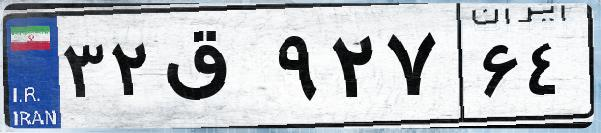2: (330, 28, 385, 110), (110, 28, 158, 98)
3: (57, 26, 110, 100)
4: (525, 38, 570, 115)
6: (475, 38, 525, 113)
7: (385, 28, 445, 110)
9: (270, 28, 330, 110)
ق: (158, 20, 270, 120)
